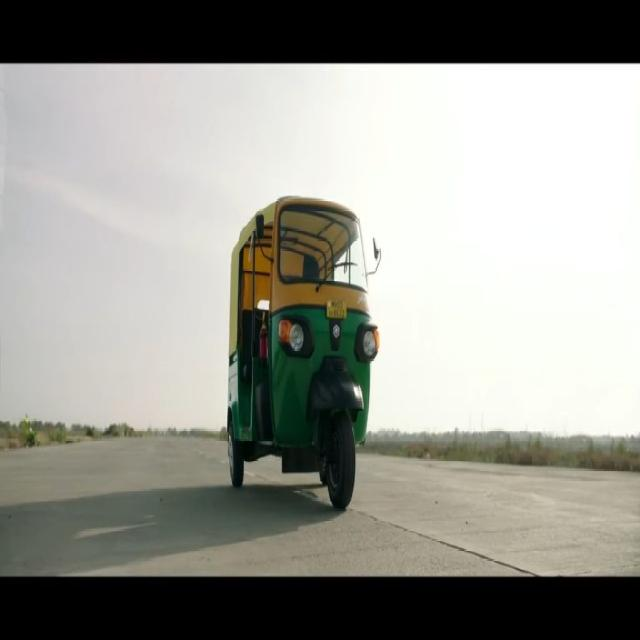autorickshaw: (226, 198, 379, 508)
